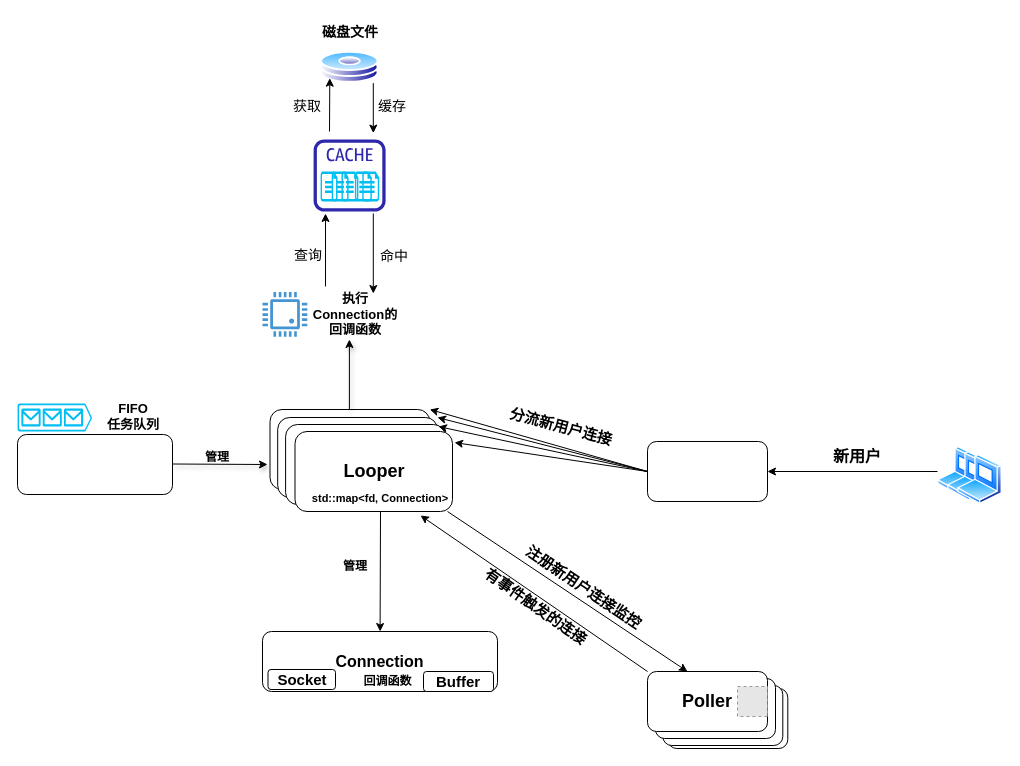
The diagram is 1020 pixels wide and 766 high, and some of its shapes have lost their labels. Grey dashed boxes stand in for pictures. The centre of each missing label's shape, as x and y in pixels:
Acceptor: pixel 707 471
ThreadPool: pixel 94 464
